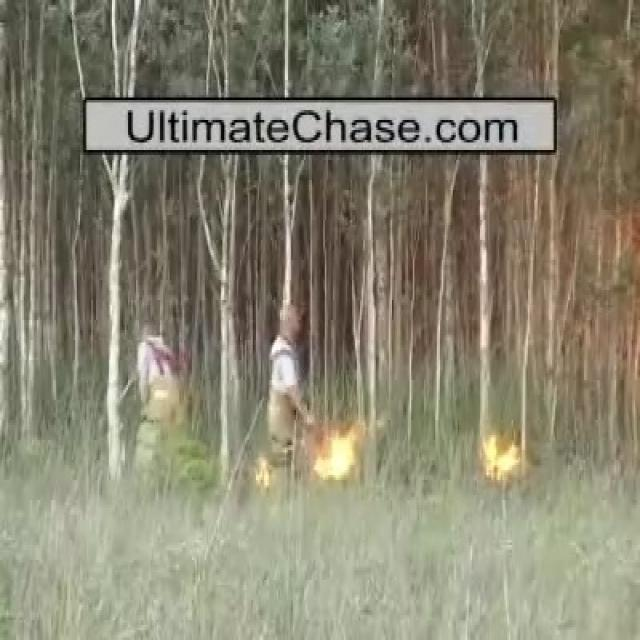fire: (315, 439, 356, 478), (482, 439, 517, 478)
